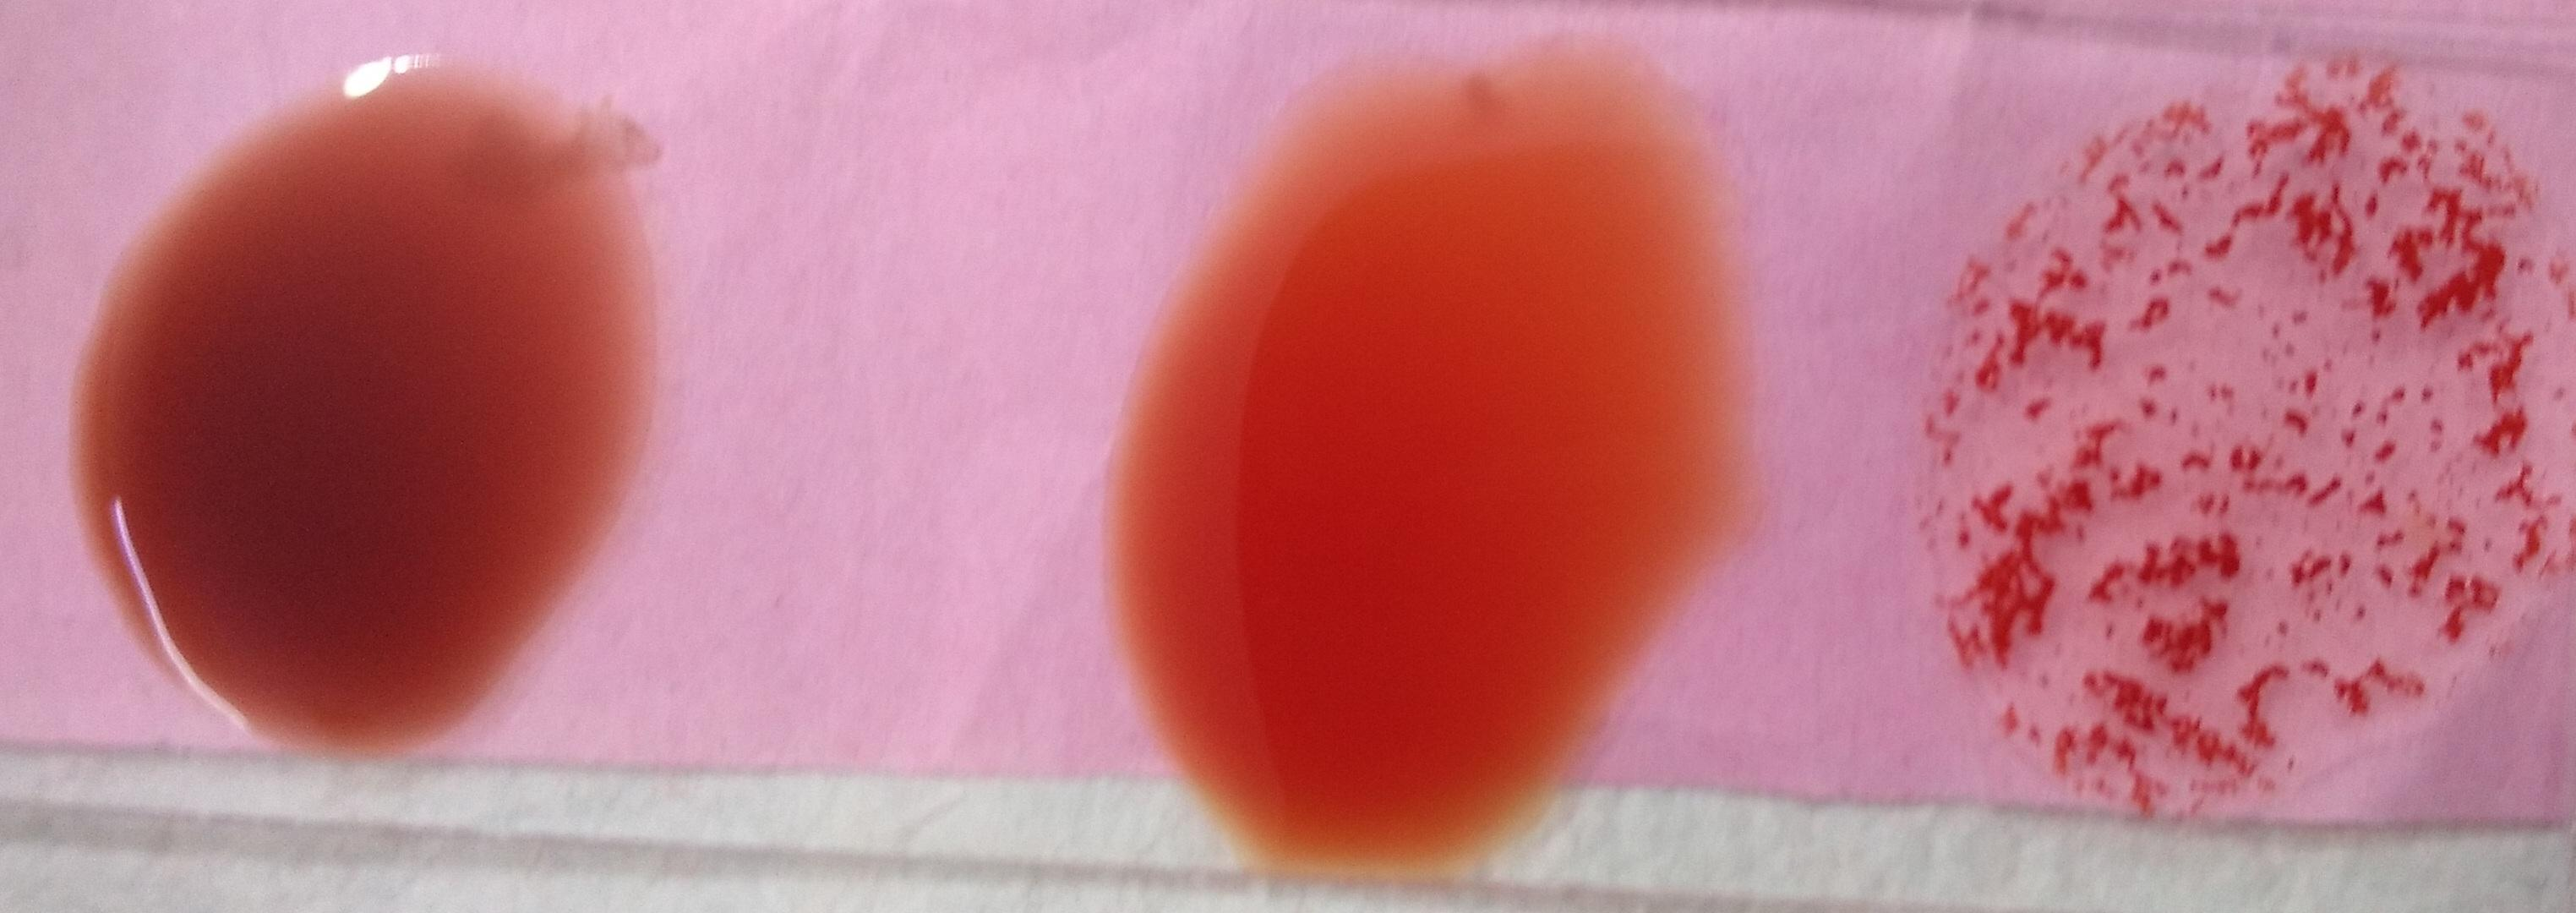D: (1925, 71, 2556, 831)
